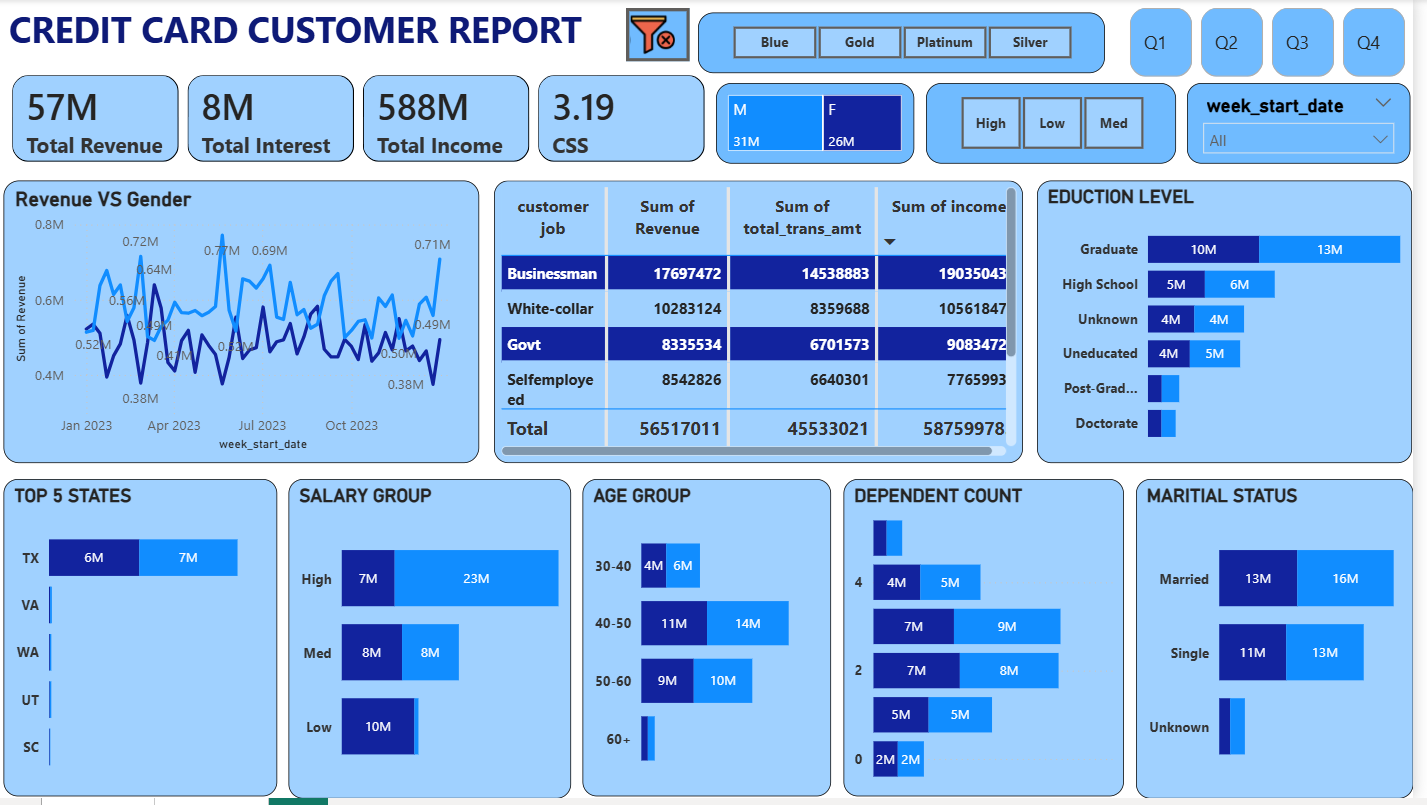

This screenshot's page, from the dashboard's own definition file:
{"tool":"powerbi","page":{"name":"Page 1","canvas":[1280,720],"ordinal":0},"visuals":[{"type":"textbox","box":[9.5,0,533.9,74.3],"z":0},{"type":"cardVisual","fields":{"Data":["Sum(public cc_detail.Revenue)","Sum(public cc_detail.interest_earned)","Sum(public cust_detail.income)","Avg(public cust_detail.cust_satisfaction_score)"]},"box":[0,51.4,659.6,112.2],"z":1000},{"type":"lineChart","title":"Revenue VS Gender","fields":{"Y":["Sum(public cc_detail.Revenue)"],"Category":["public cc_detail.week_start_date"],"Series":["public cust_detail.gender"]},"box":[9.1,163.5,428.5,254.4],"z":2000},{"type":"barChart","title":"AGE GROUP","fields":{"Category":["public cust_detail.AgeGroup"],"Series":["public cust_detail.gender"],"Y":["Sum(public cc_detail.Revenue)"]},"box":[531.5,433.1,224.1,286.2],"z":3000},{"type":"advancedSlicerVisual","fields":{"Values":["public cc_detail.qtr"]},"box":[1019.1,3,258.9,72.7],"z":4000},{"type":"slicer","fields":{"Values":["public cc_detail.week_start_date"]},"box":[1076.6,75.7,201.4,72.7],"z":5000},{"type":"slicer","fields":{"Values":["public cc_detail.card_category"]},"box":[636,12.1,366.4,54.5],"z":6000},{"type":"tableEx","fields":{"Values":["public cust_detail.customer_job","Sum(public cc_detail.Revenue)","Sum(public cc_detail.total_trans_amt)","Sum(public cust_detail.income)"]},"box":[451.2,163.5,477,254.4],"z":7000},{"type":"barChart","title":"TOP 5 STATES","fields":{"Category":["public cust_detail.state_cd"],"Series":["public cust_detail.gender"],"Y":["Sum(public cc_detail.Revenue)"]},"box":[9.1,433.1,246.8,286.2],"z":8000},{"type":"treemap","fields":{"Group":["public cust_detail.gender"],"Values":["Sum(public cc_detail.Revenue)"]},"box":[651.1,75.7,178.7,72.7],"z":9000},{"type":"barChart","title":"SALARY GROUP","fields":{"Category":["public cust_detail.IncomeGroup"],"Series":["public cust_detail.gender"],"Y":["Sum(public cc_detail.Revenue)"]},"box":[266.5,433.1,254.4,287.7],"z":10000},{"type":"barChart","title":"MARITIAL STATUS","fields":{"Category":["public cust_detail.marital_status"],"Series":["public cust_detail.gender"],"Y":["Sum(public cc_detail.Revenue)"]},"box":[1029.7,433.1,249.8,287.7],"z":11000},{"type":"barChart","title":"DEPENDENT COUNT","fields":{"Series":["public cust_detail.gender"],"Category":["public cust_detail.dependent_count"],"Y":["Sum(public cc_detail.Revenue)"]},"box":[766.2,433.1,252.9,286.2],"z":12000},{"type":"barChart","title":"EDUCTION LEVEL","fields":{"Category":["public cust_detail.education_level"],"Series":["public cust_detail.gender"],"Y":["Sum(public cc_detail.Revenue)"]},"box":[940.3,163.5,337.7,254.4],"z":13000},{"type":"slicer","fields":{"Values":["public cust_detail.IncomeGroup"]},"box":[840.4,75.7,225.6,72.7],"z":14000},{"type":"actionButton","box":[570.6,7.8,57.5,48.2],"z":15000}]}

Visuals, with their boxes in screenshot pixels (x1, y1, x2, y2), scaled from the page's 1280x720 canvas onto the 1427x805 screenshot:
textbox: <region>11, 0, 606, 83</region>
cardVisual - Sum(public cc_detail.Revenue) x Sum(public cc_detail.interest_earned): <region>0, 57, 735, 183</region>
"Revenue VS Gender" lineChart: <region>10, 183, 488, 467</region>
"AGE GROUP" barChart: <region>593, 484, 842, 804</region>
advancedSlicerVisual - public cc_detail.qtr: <region>1136, 3, 1425, 85</region>
slicer - public cc_detail.week_start_date: <region>1200, 85, 1425, 166</region>
slicer - public cc_detail.card_category: <region>709, 14, 1118, 74</region>
tableEx - public cust_detail.customer_job x Sum(public cc_detail.Revenue): <region>503, 183, 1035, 467</region>
"TOP 5 STATES" barChart: <region>10, 484, 285, 804</region>
treemap - public cust_detail.gender x Sum(public cc_detail.Revenue): <region>726, 85, 925, 166</region>
"SALARY GROUP" barChart: <region>297, 484, 581, 804</region>
"MARITIAL STATUS" barChart: <region>1148, 484, 1426, 804</region>
"DEPENDENT COUNT" barChart: <region>854, 484, 1136, 804</region>
"EDUCTION LEVEL" barChart: <region>1048, 183, 1425, 467</region>
slicer - public cust_detail.IncomeGroup: <region>937, 85, 1188, 166</region>
actionButton: <region>636, 9, 700, 63</region>
